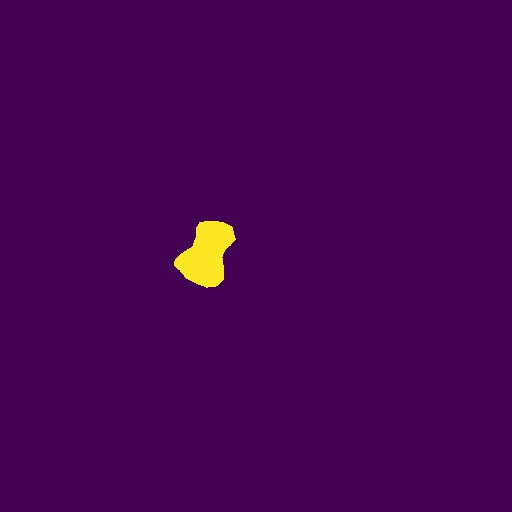Pituirity_tumour: (174, 221, 236, 288)
